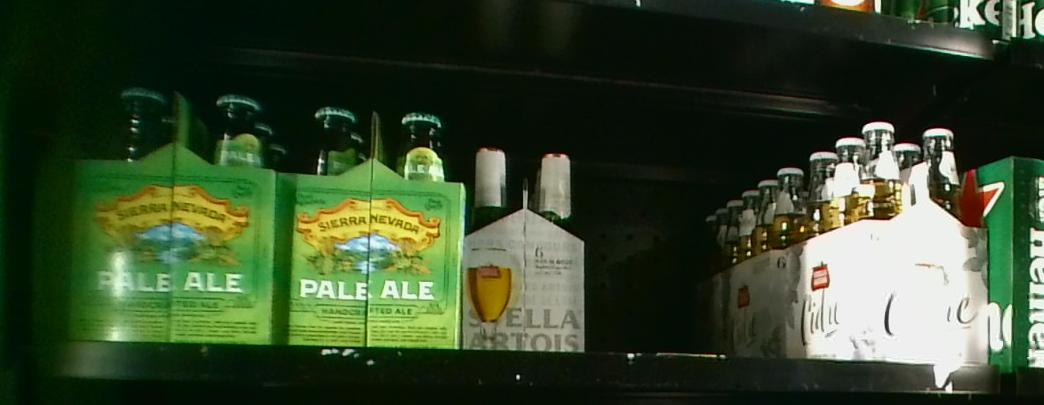bottle: (72, 87, 278, 348), (287, 91, 458, 346), (834, 124, 991, 362), (470, 144, 583, 352)
